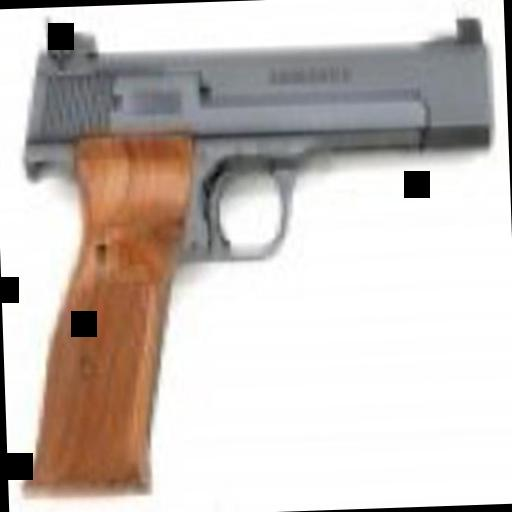Handgun: (16, 8, 510, 506)
